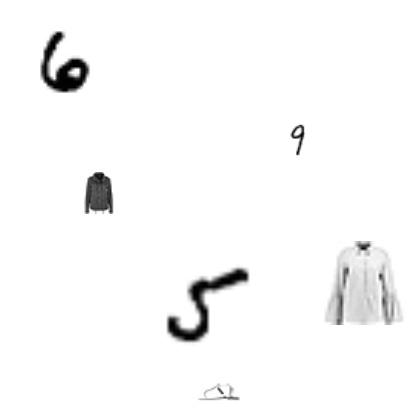5: (148, 245, 260, 357)
6: (20, 26, 104, 110)
9: (277, 116, 319, 158)
Coat: (77, 172, 119, 214)
Sandal: (198, 370, 240, 412)
Shirt: (322, 241, 406, 325)
